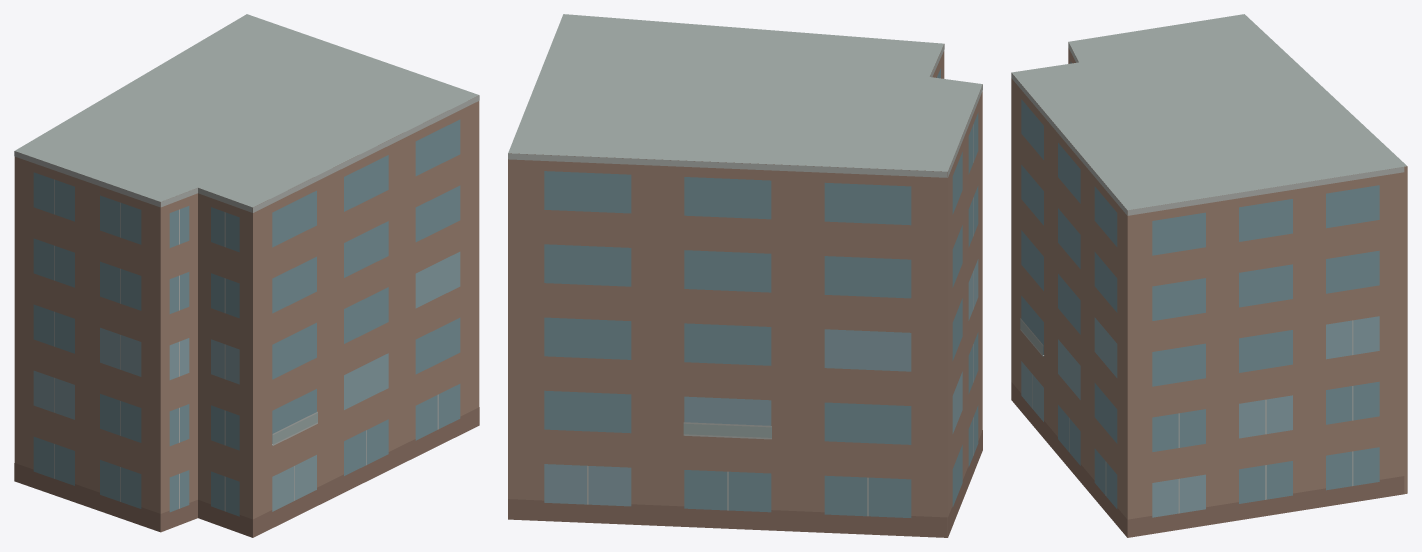
The model's file is survey-upis-32855864.glb.
The picture shows the model from 3 angles, left to right: view 1: azimuth 30°, elevation 25°; view 2: azimuth 150°, elevation 25°; view 3: azimuth 270°, elevation 25°; orthographic projection. The views are drawn at different scales.
Parts seen in each view (by area): view 1: survey-upis-32855864.tmp; view 2: survey-upis-32855864.tmp; view 3: survey-upis-32855864.tmp.
Boxes of the visible parts, left/top/right/bottom form: survey-upis-32855864.tmp: left=14, top=14, right=479, bottom=537; survey-upis-32855864.tmp: left=508, top=14, right=982, bottom=537; survey-upis-32855864.tmp: left=1011, top=14, right=1407, bottom=537.
Bounding box in the file's own units: 18.65 × 14.5 × 15.9.
